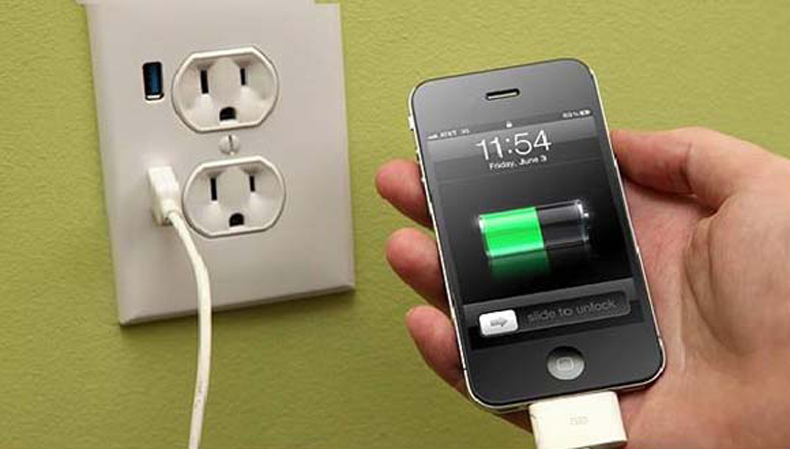Three_eye_plug: (86, 1, 360, 314)
